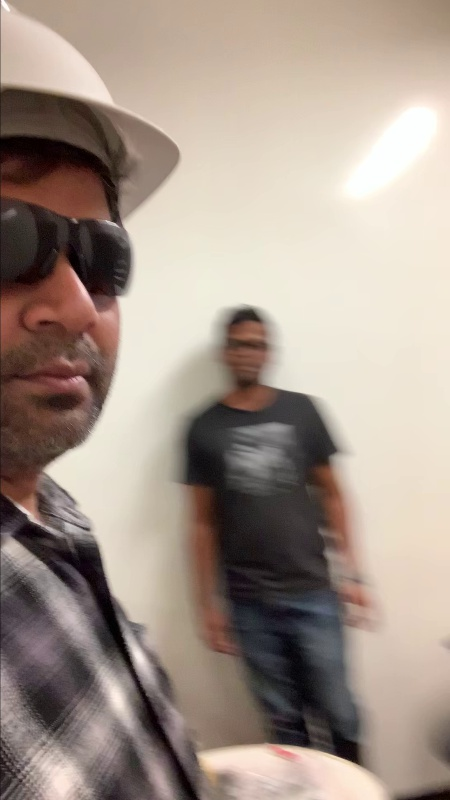glasses: (2, 194, 142, 308)
helmet: (1, 3, 181, 211)
